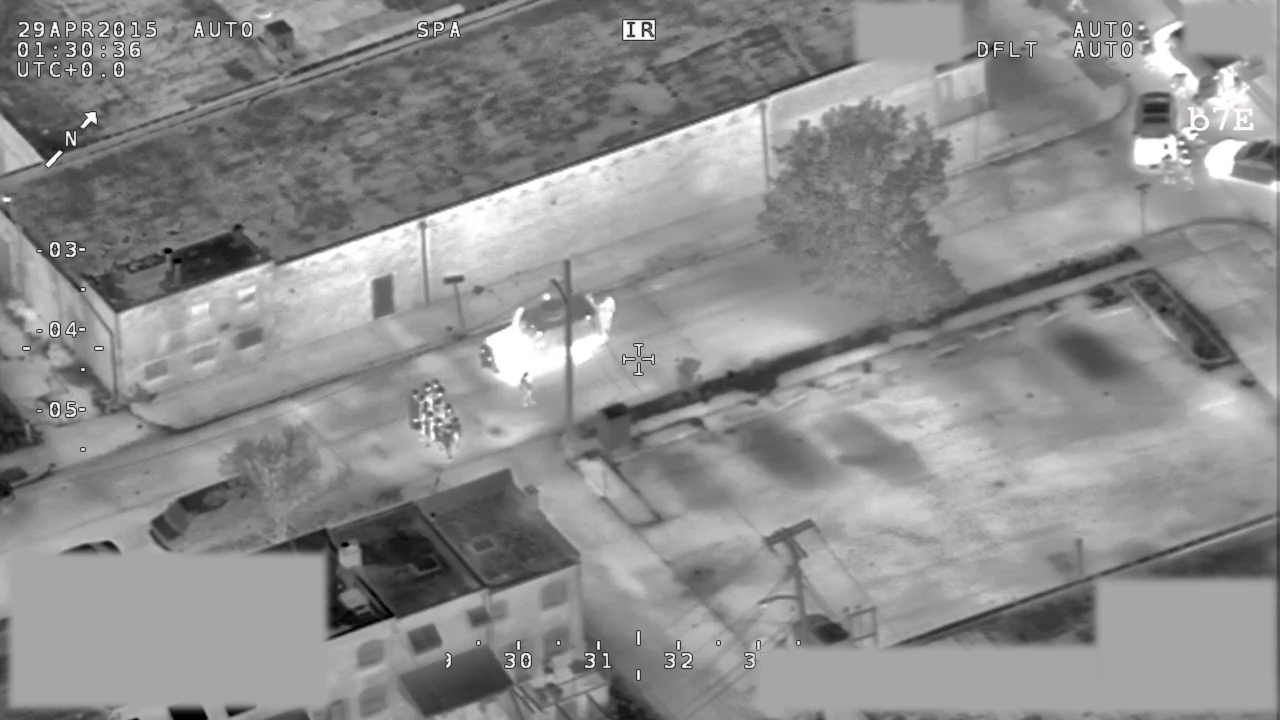vehicle: (483, 290, 617, 386), (145, 474, 273, 554), (1149, 17, 1266, 99), (1128, 92, 1181, 170), (1202, 135, 1280, 188), (60, 536, 129, 554)
